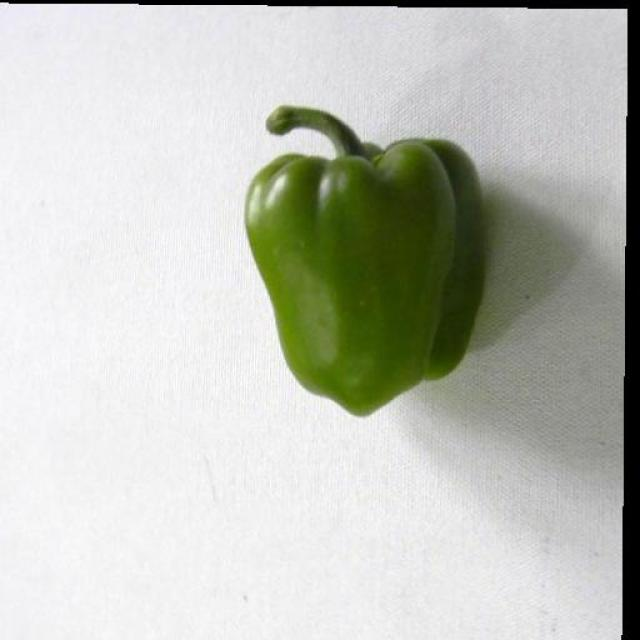Fresh_Capsicum: (220, 104, 524, 463)
